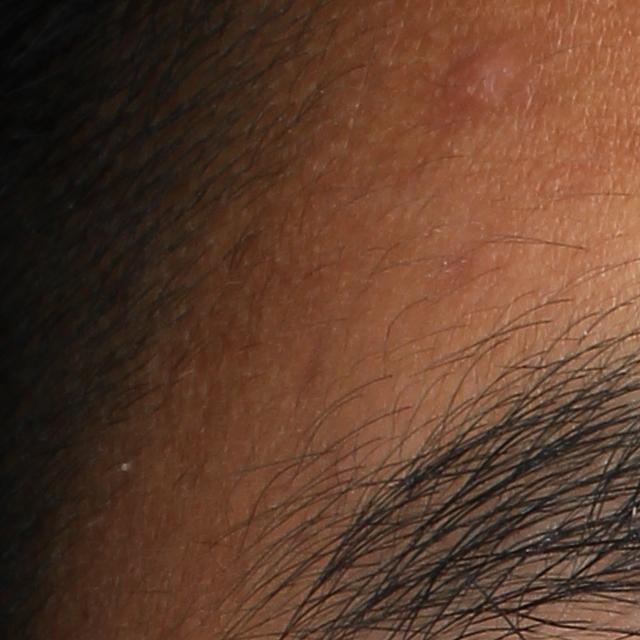hypertrophic_scar: (439, 47, 531, 126)
